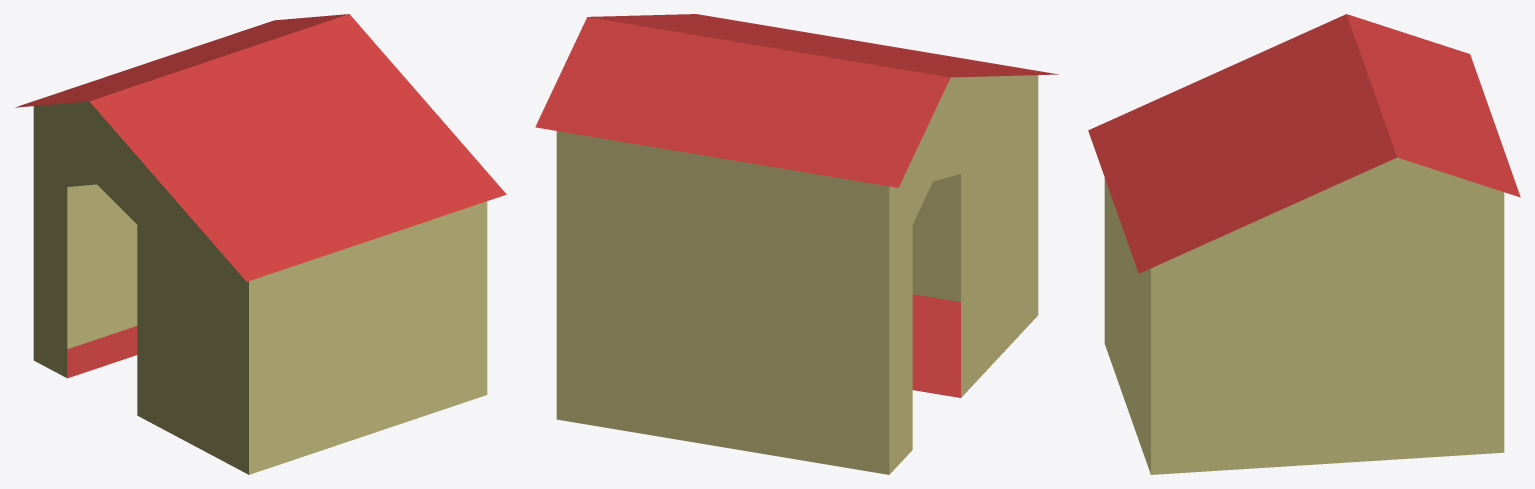
3 renders of one model, left to right at view 1: azimuth 30°, elevation 25°; view 2: azimuth 150°, elevation 25°; view 3: azimuth 270°, elevation 25°, orthographic. The views are drawn at different scales.
Bounding box in the file's own units: 13.69 × 14.94 × 11.74.
